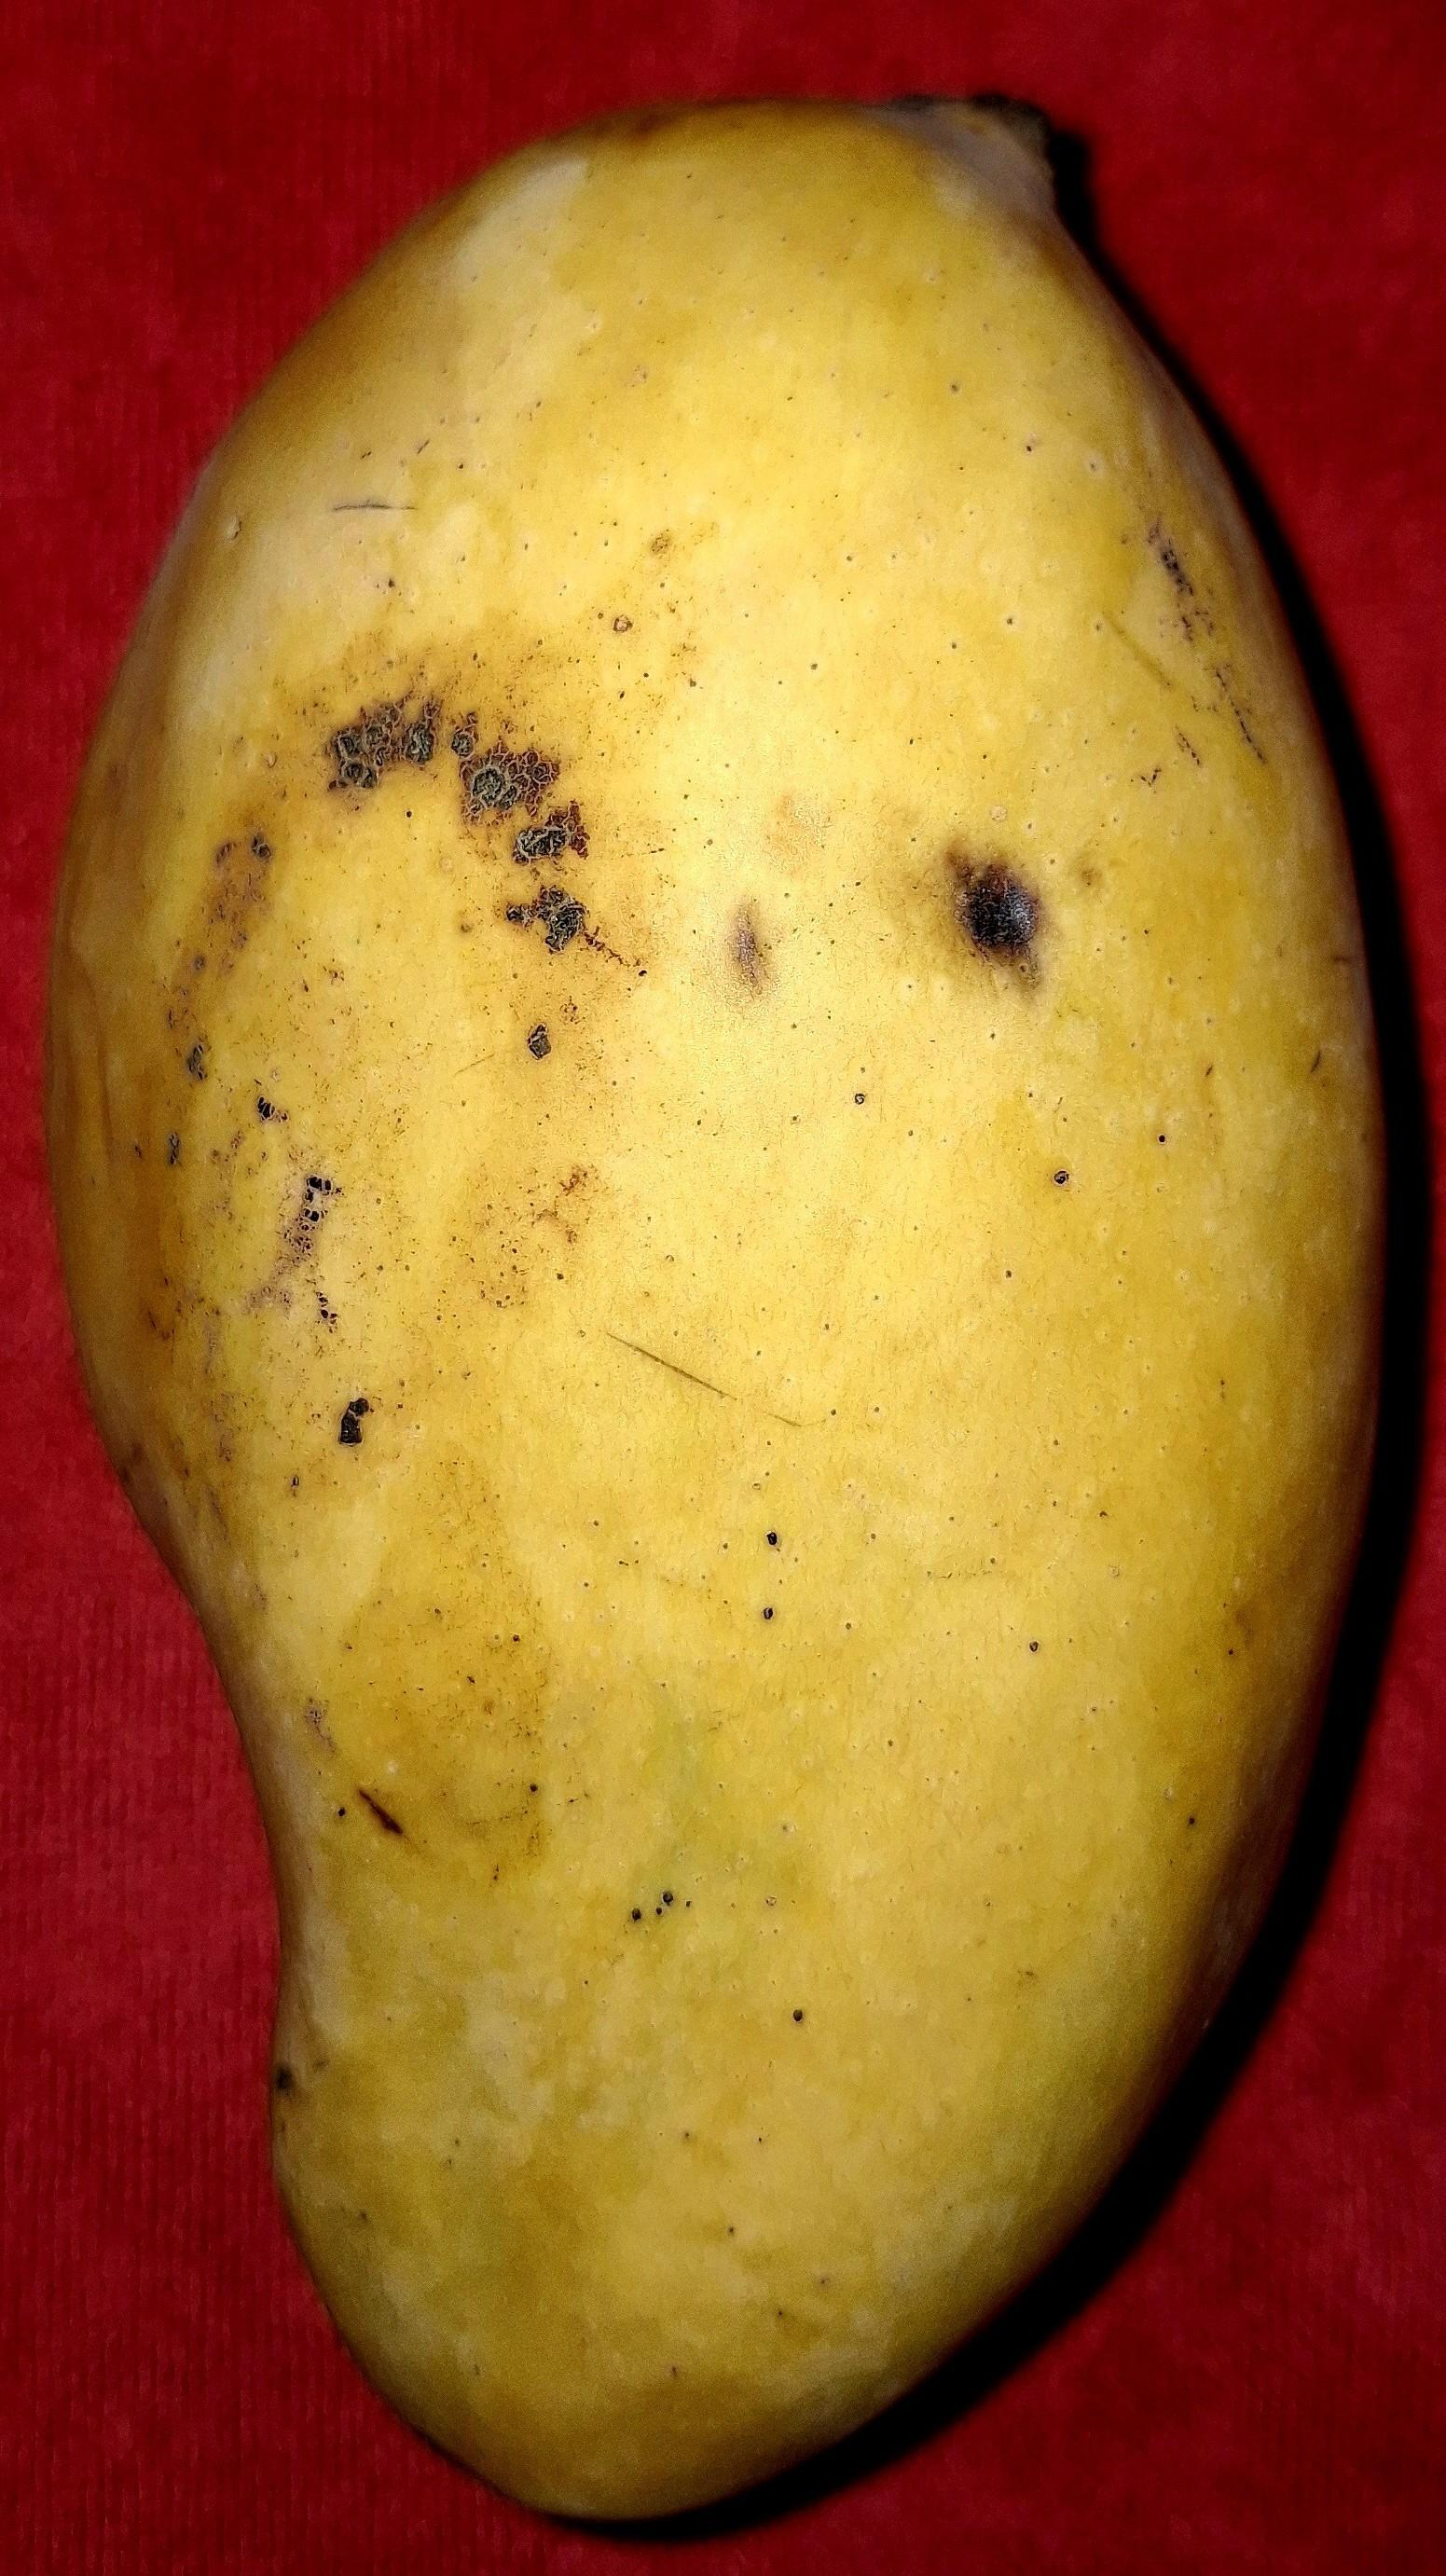mango: (42, 90, 1389, 2526)
